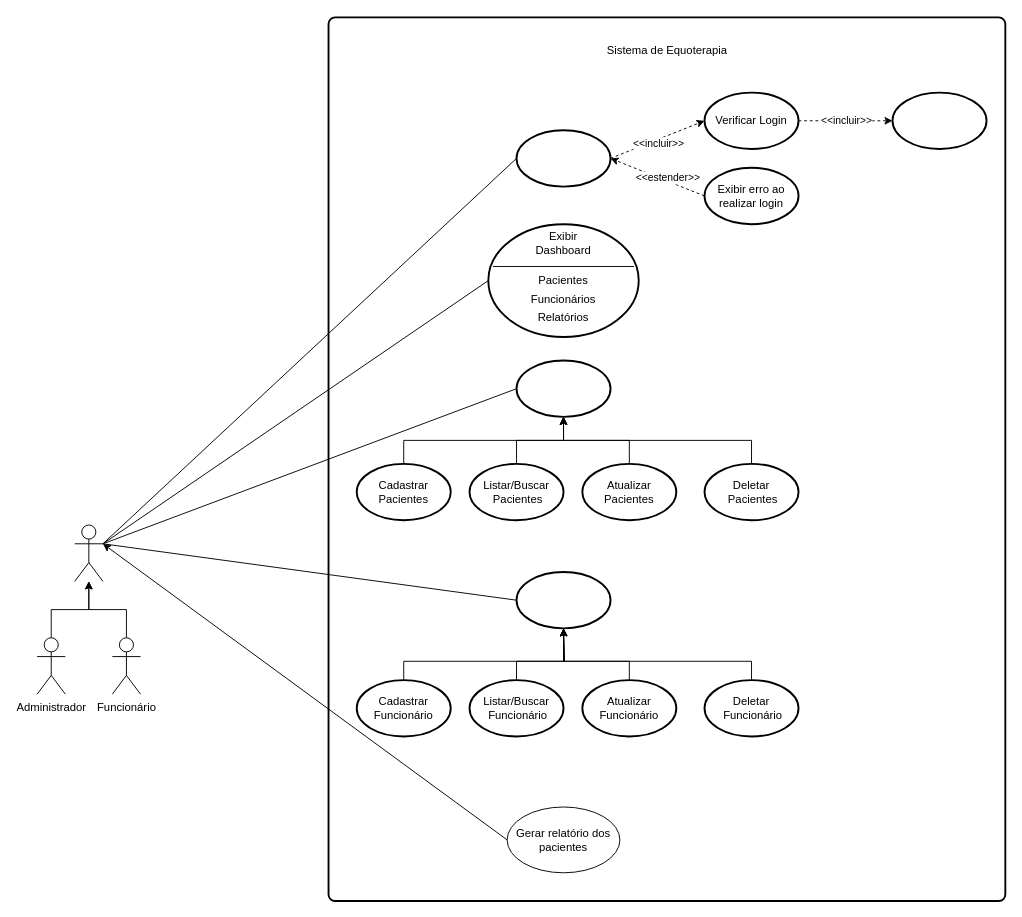
This 1022x917 diagram has some shape labels left out. Here are the shapes that lost their labels. From the top down, the centre of each, then its label:
At point (939, 120): "Verificar nível de acesso".
At point (563, 158): "Fazer Login".
At point (563, 388): "Gerenciar Pacientes".
At point (88, 552): "Usuário".
At point (563, 600): "Gerenciar Funcionários".
